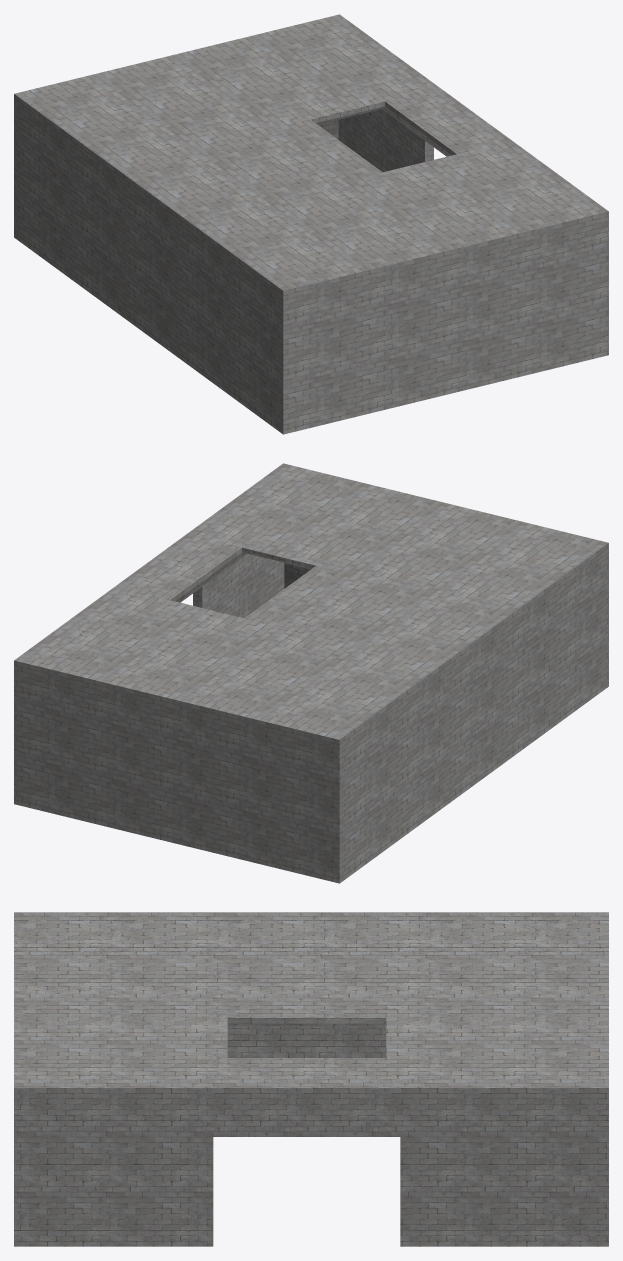
Rendered from Room2.fbx.
3 renders of one model, top to bottom at view 1: azimuth 30°, elevation 25°; view 2: azimuth 150°, elevation 25°; view 3: azimuth 270°, elevation 25°, orthographic. The views are drawn at different scales.
Visible parts, largest first — view 1: LV_Arena_MainRoom_SM_KJS; view 2: LV_Arena_MainRoom_SM_KJS; view 3: LV_Arena_MainRoom_SM_KJS.
Part boxes in pixels (x1,y1,x2,y2): LV_Arena_MainRoom_SM_KJS: (14, 14, 608, 434); LV_Arena_MainRoom_SM_KJS: (14, 463, 608, 883); LV_Arena_MainRoom_SM_KJS: (14, 912, 608, 1246).
Size of the model in its own units: 2.96 by 1.25 by 4.24.
